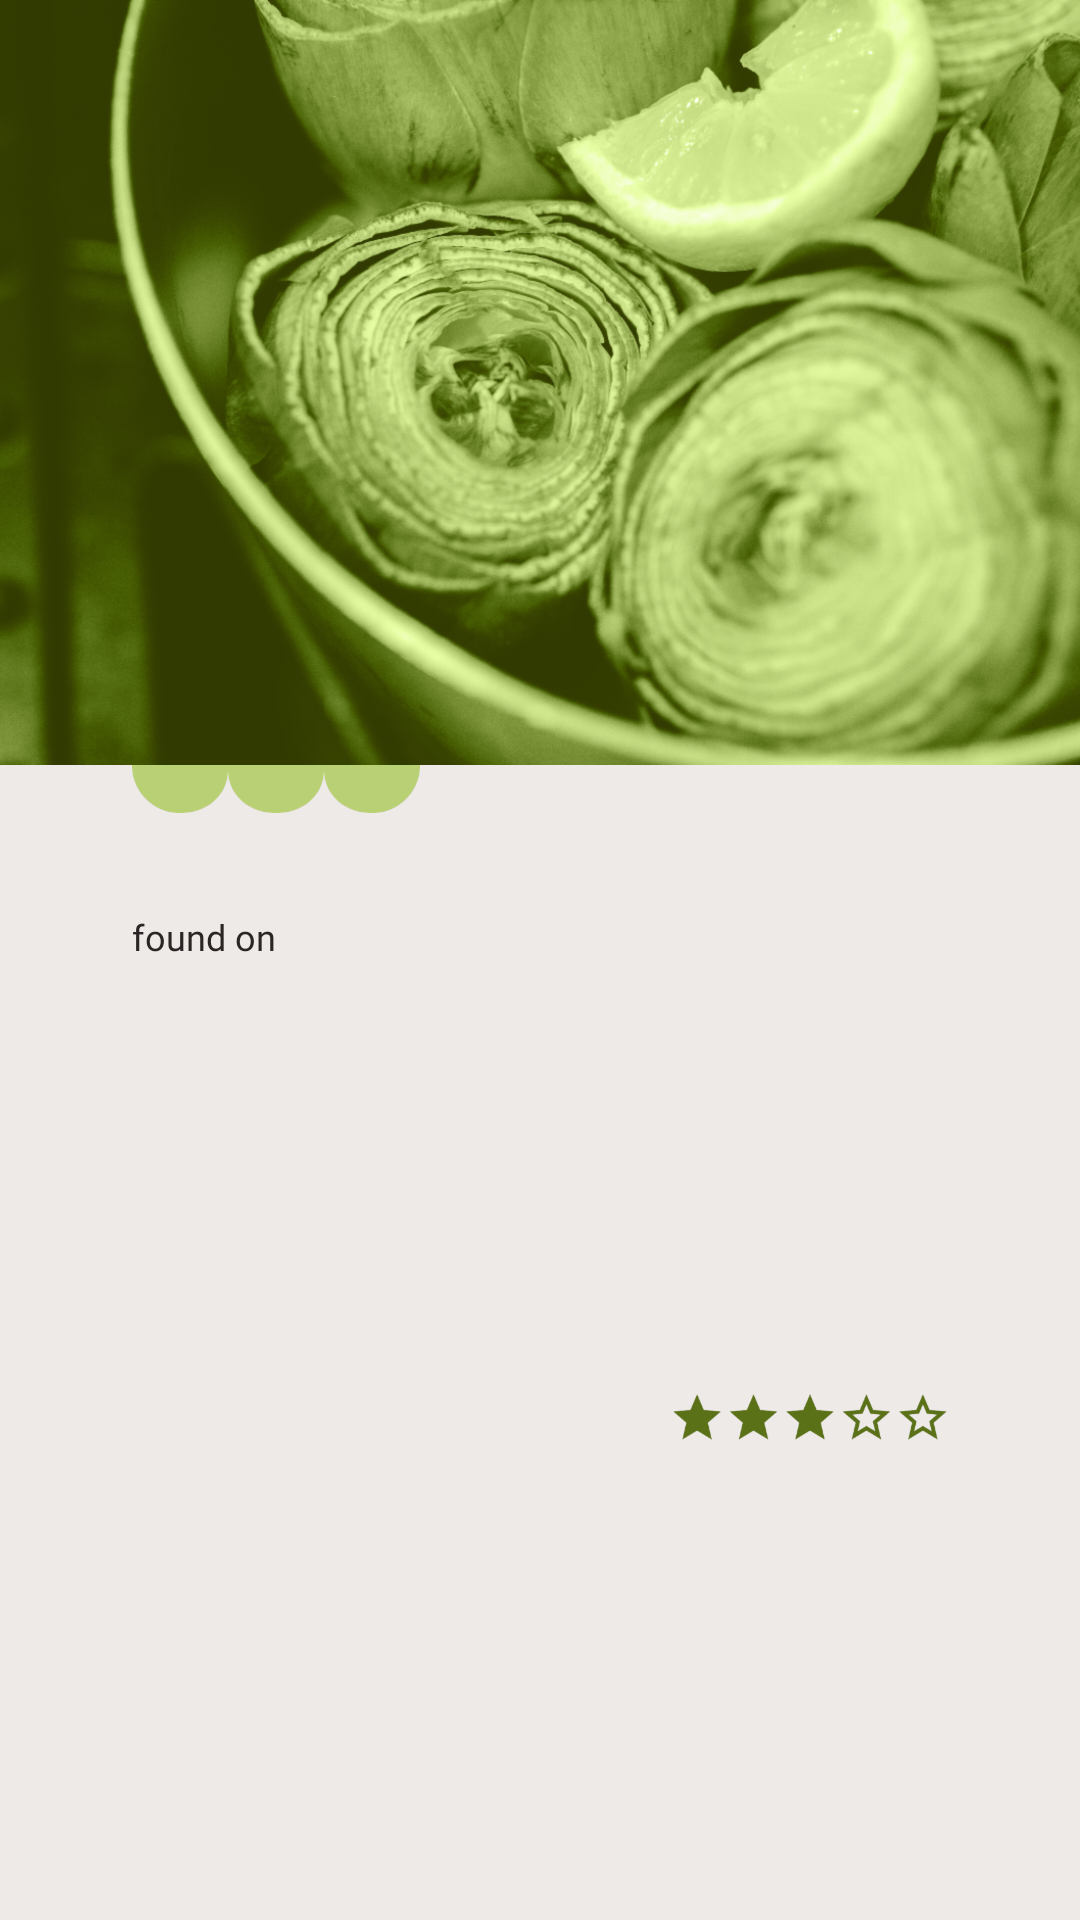

Named icons in this screenshot (1080px x 1920px) and their centers, point (x, y):
recipe rating: point (810, 1417)
